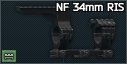Nightforce Magmount 34mm rings with Ruggedized Accessory Platform: (0, 0, 127, 64)
